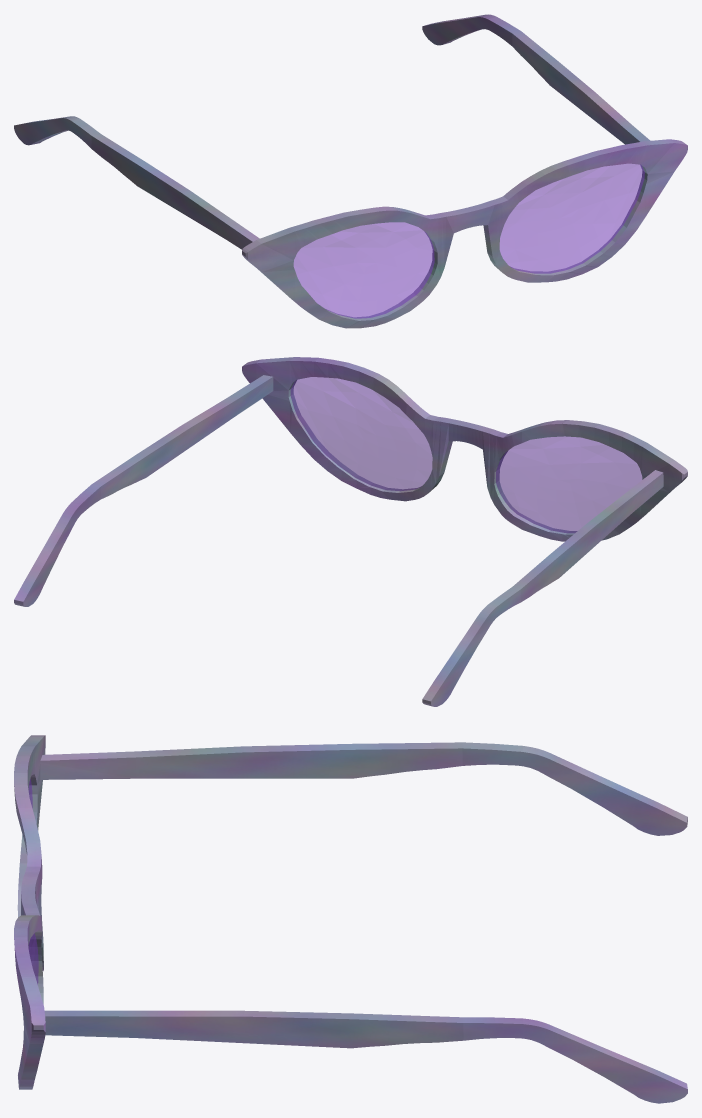
The model's file is cat_eye_acetate.glb.
3 renders of one model, top to bottom at view 1: azimuth 30°, elevation 25°; view 2: azimuth 150°, elevation 25°; view 3: azimuth 270°, elevation 25°, orthographic. The views are drawn at different scales.
Parts seen in each view (by area): view 1: RightLens, LeftLens, RightRim, LeftRim, LeftTemple, RightTemple, Frame, Bridge; view 2: RightLens, LeftLens, RightTemple, RightRim, LeftTemple, LeftRim, Frame, Bridge; view 3: LeftTemple, RightTemple, LeftRim, Frame, RightRim.
Part boxes in pixels (box(x1,y1,x2,y2)): RightLens: box(499, 163, 644, 273); LeftLens: box(293, 222, 434, 318); RightRim: box(483, 141, 647, 282); LeftRim: box(290, 206, 453, 328); LeftTemple: box(14, 116, 259, 249); RightTemple: box(422, 14, 650, 144); Frame: box(242, 139, 687, 301); Bridge: box(442, 201, 494, 254); RightLens: box(290, 377, 432, 491); LeftLens: box(496, 436, 642, 533); RightTemple: box(14, 375, 273, 606); RightRim: box(288, 357, 453, 501); LeftTemple: box(422, 470, 663, 706); LeftRim: box(483, 420, 647, 541); Frame: box(242, 357, 687, 518); Bridge: box(440, 419, 489, 486); LeftTemple: box(40, 742, 687, 835); RightTemple: box(44, 1010, 687, 1103); LeftRim: box(14, 746, 43, 971); Frame: box(21, 735, 45, 1071); RightRim: box(14, 904, 43, 1089).
Bounding box in the file's own units: 146 × 37.6 × 144.
2 materials, 2 textured.
